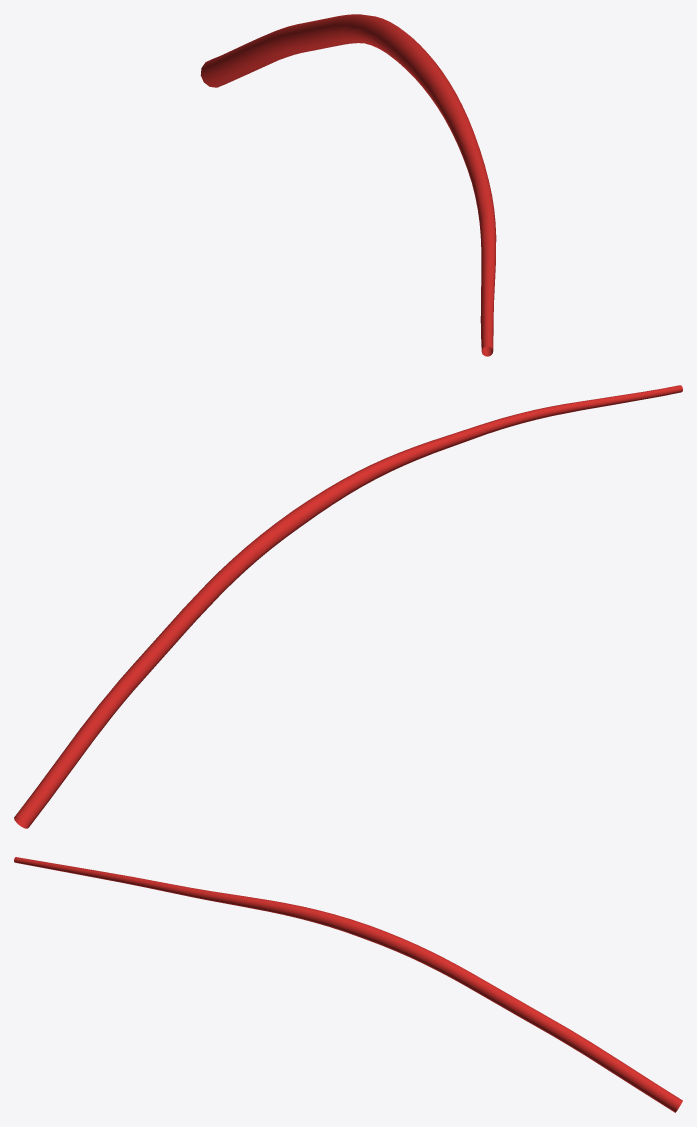
File: circulatorio-lingual-vein-l.glb
The picture shows the model from 3 angles, top to bottom: view 1: azimuth 30°, elevation 25°; view 2: azimuth 150°, elevation 25°; view 3: azimuth 270°, elevation 25°; orthographic projection. The views are drawn at different scales.
Visible parts, largest first — view 1: Lingual vein.l; view 2: Lingual vein.l; view 3: Lingual vein.l.
Boxes of the visible parts, box(x1,y1,x2,y2) form: Lingual vein.l: box(200, 14, 496, 356); Lingual vein.l: box(14, 385, 682, 828); Lingual vein.l: box(14, 857, 682, 1112).
Bounding box in the file's own units: 0.0162 × 0.0128 × 0.046.
